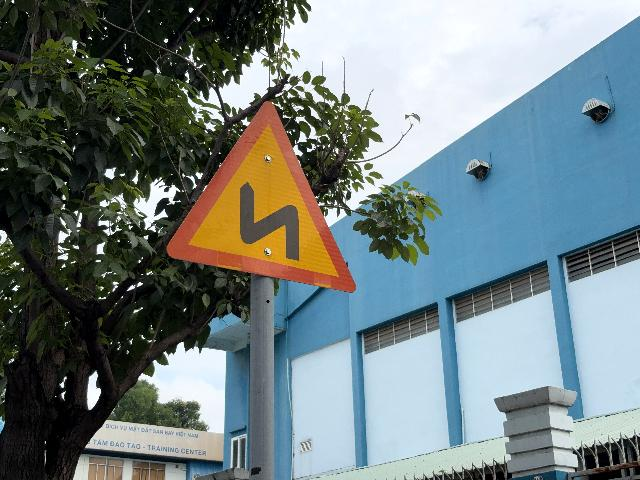nhieu-cho-ngoat-nguy-hiem-lien-tiep: (166, 100, 357, 293)
